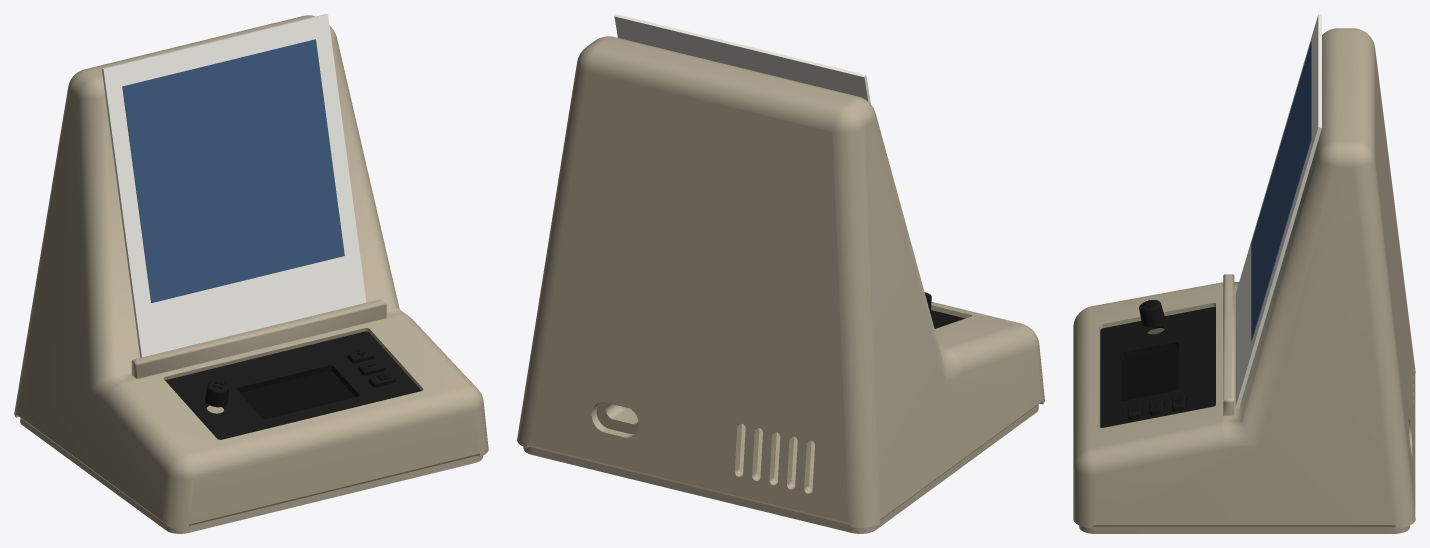
The model's file is easel.glb.
3 views of the same model, side by side, from view 1: azimuth 30°, elevation 25°; view 2: azimuth 150°, elevation 25°; view 3: azimuth 270°, elevation 25° (orthographic). The views are drawn at different scales.
Parts seen in each view (by area): view 1: part0_0, part7_0, part6_0, part1_0, part2_0, part3_0, part4_0; view 2: part0_0, part6_0, part2_0; view 3: part0_0, part1_0, part7_0, part6_0, part3_0, part2_0, part4_0.
Part boxes in pixels (x1,y1,x2,y2): part0_0: [14, 15, 488, 528]; part7_0: [122, 39, 344, 302]; part6_0: [102, 14, 366, 357]; part1_0: [165, 331, 421, 439]; part2_0: [20, 405, 482, 533]; part3_0: [240, 371, 354, 418]; part4_0: [205, 380, 228, 407]; part0_0: [517, 36, 1044, 527]; part6_0: [614, 14, 870, 103]; part2_0: [523, 402, 1038, 533]; part0_0: [1073, 28, 1415, 528]; part1_0: [1100, 307, 1215, 427]; part7_0: [1251, 41, 1311, 340]; part6_0: [1235, 14, 1321, 408]; part3_0: [1122, 348, 1178, 400]; part2_0: [1079, 525, 1409, 533]; part4_0: [1139, 299, 1165, 326].
Size of the model in its own units: 0.1039 by 0.1138 by 0.092.
